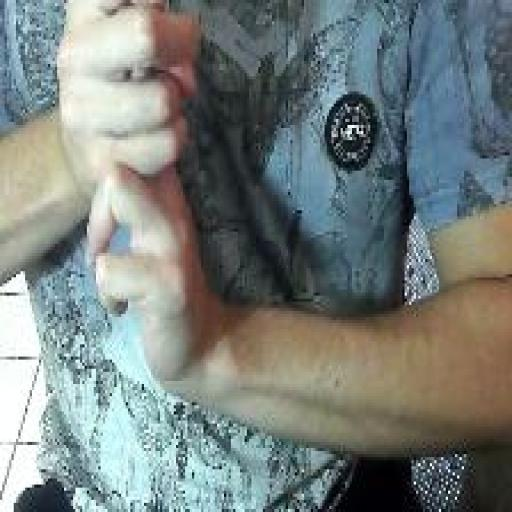Ne -rat-: (51, 0, 215, 405)
